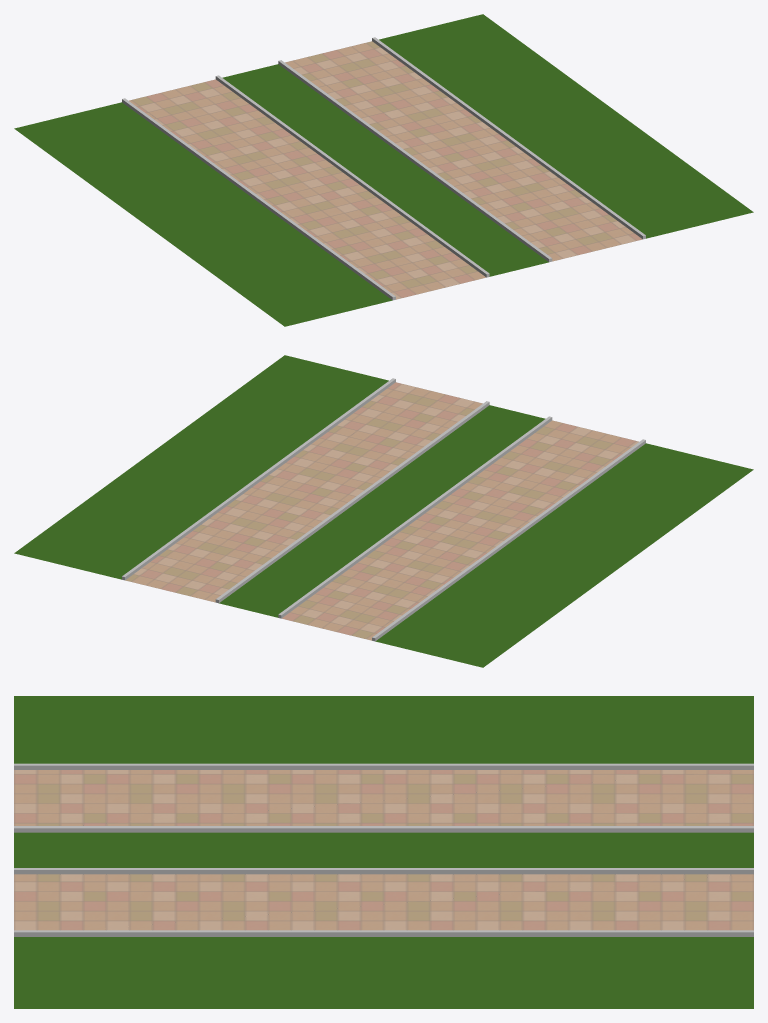
Rendered from Park_Sidewalk_01.fbx.
The picture shows the model from 3 angles, top to bottom: view 1: azimuth 30°, elevation 25°; view 2: azimuth 150°, elevation 25°; view 3: azimuth 270°, elevation 25°; orthographic projection. The views are drawn at different scales.
Visible parts, largest first — view 1: Park_Sidewalk_01; view 2: Park_Sidewalk_01; view 3: Park_Sidewalk_01.
Boxes of the visible parts, <box> form: Park_Sidewalk_01: <box>14,14,753,326</box>; Park_Sidewalk_01: <box>14,355,753,667</box>; Park_Sidewalk_01: <box>14,696,753,1008</box>.
Size of the model in its own units: 3000 by 3000 by 20.
